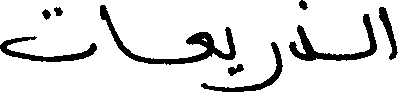ا: (99, 2, 134, 60), (378, 5, 395, 61)
ت: (0, 4, 95, 62)
ذ: (288, 0, 314, 61)
ر: (246, 40, 283, 91)
ع: (183, 30, 213, 68)
ل: (362, 12, 376, 59)
ي: (223, 25, 242, 76)
